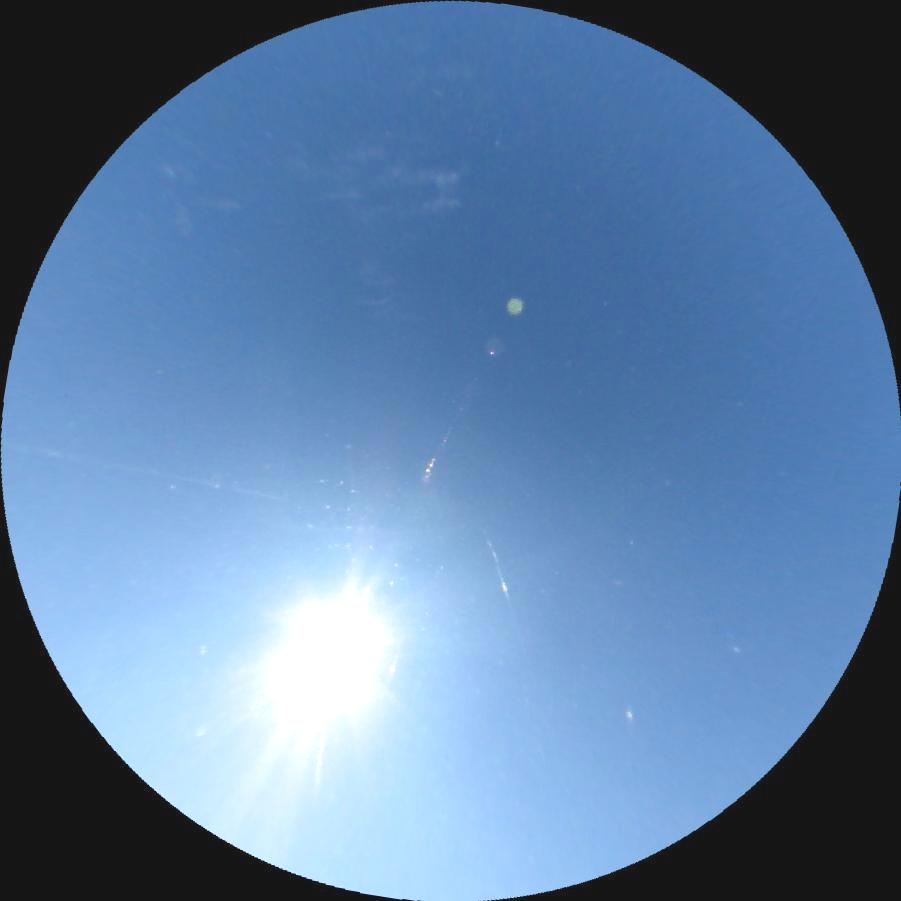parasite: (480, 526, 517, 613)
sun: (268, 588, 385, 721)
